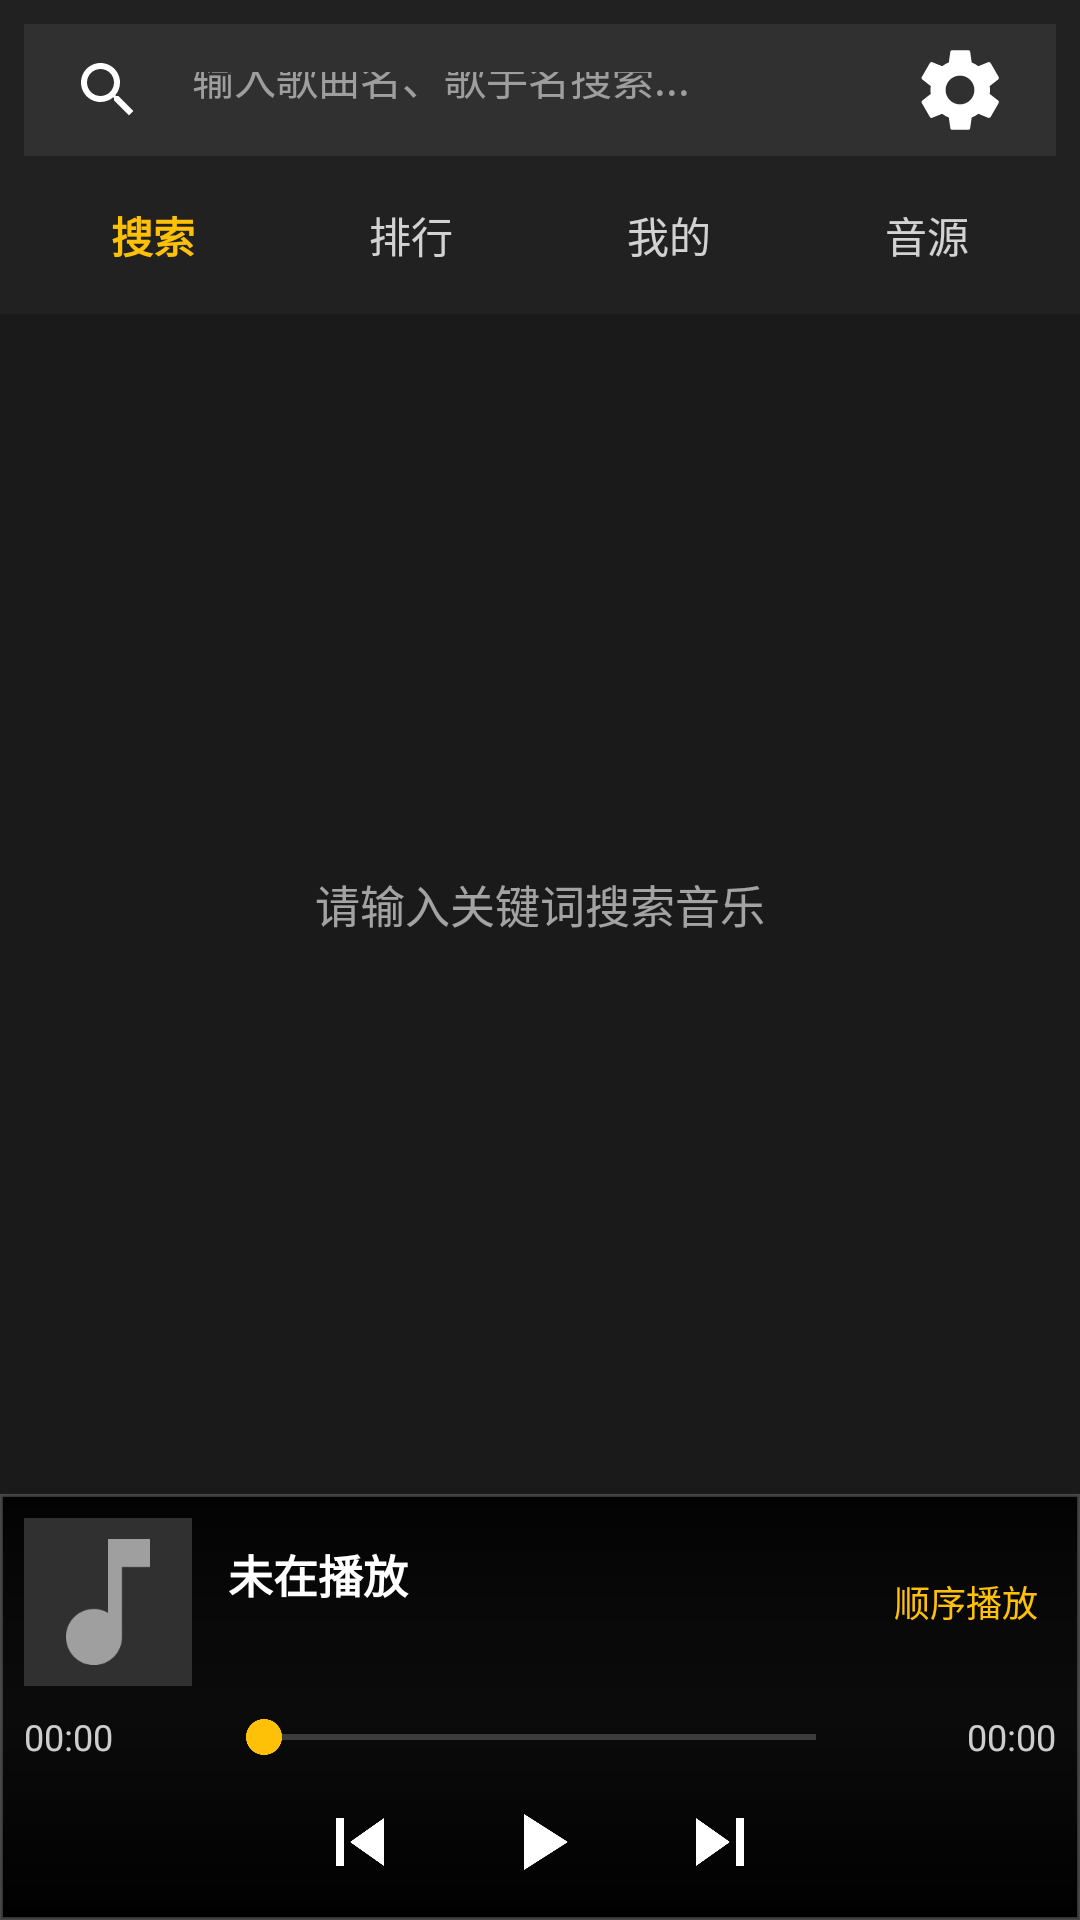

Icon bounding boxes for this 1080×1920 phone screenshot, format (x1, y1, x2, y2):
上一首: (336, 1818, 384, 1866)
下一首: (696, 1818, 744, 1866)
专辑封面: (24, 1518, 192, 1686)
播放/暂停: (524, 1814, 568, 1870)
设置: (921, 50, 999, 130)
